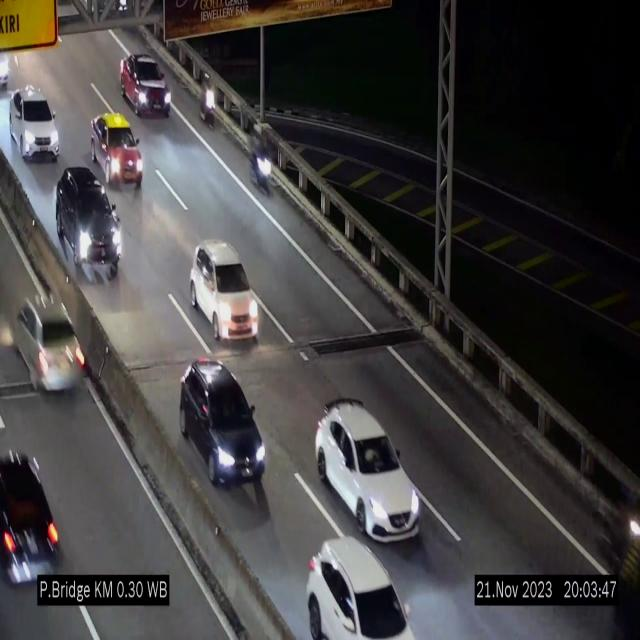Car: (315, 398, 421, 540), (0, 417, 68, 600), (180, 357, 266, 487), (308, 539, 414, 637), (12, 283, 92, 401), (56, 165, 122, 275), (190, 240, 259, 341), (88, 104, 144, 187), (9, 88, 59, 160), (120, 54, 170, 115)
Motorcycle: (196, 68, 218, 138), (252, 129, 272, 200)
